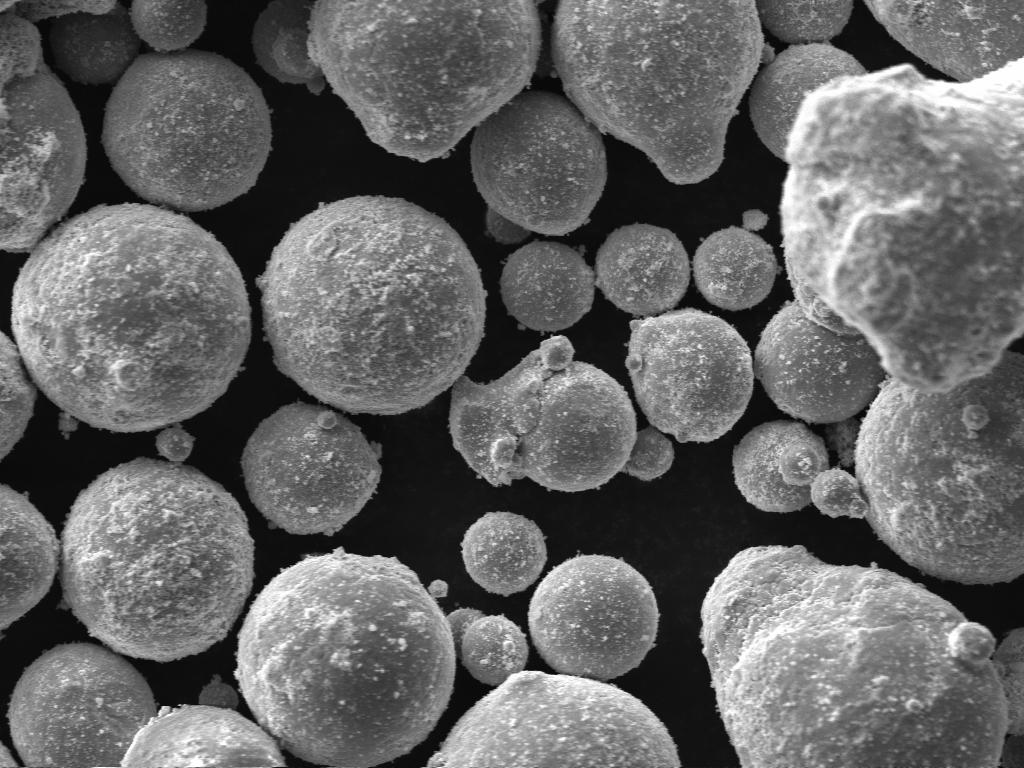Powder: (782, 60, 1024, 391), (700, 546, 1008, 766), (12, 204, 250, 432), (258, 196, 486, 414), (810, 352, 1024, 584), (234, 548, 456, 766), (252, 0, 540, 161), (60, 458, 254, 661), (552, 0, 764, 184), (450, 336, 674, 491), (102, 50, 270, 211), (428, 670, 680, 768), (470, 90, 608, 244), (0, 12, 86, 251), (242, 402, 382, 535), (8, 644, 156, 766), (626, 308, 754, 442), (528, 556, 658, 680), (754, 302, 884, 423), (120, 674, 286, 768), (750, 42, 866, 159), (864, 0, 1024, 82), (0, 484, 60, 629), (500, 240, 594, 332), (596, 224, 690, 316), (732, 422, 828, 511), (50, 4, 142, 84), (692, 226, 778, 310), (462, 512, 546, 595), (446, 608, 528, 686), (462, 616, 528, 686), (0, 332, 36, 459), (756, 1, 852, 44), (130, 0, 206, 51), (992, 628, 1024, 734), (0, 1, 116, 22), (824, 418, 860, 468), (156, 422, 196, 462), (742, 208, 768, 232)
